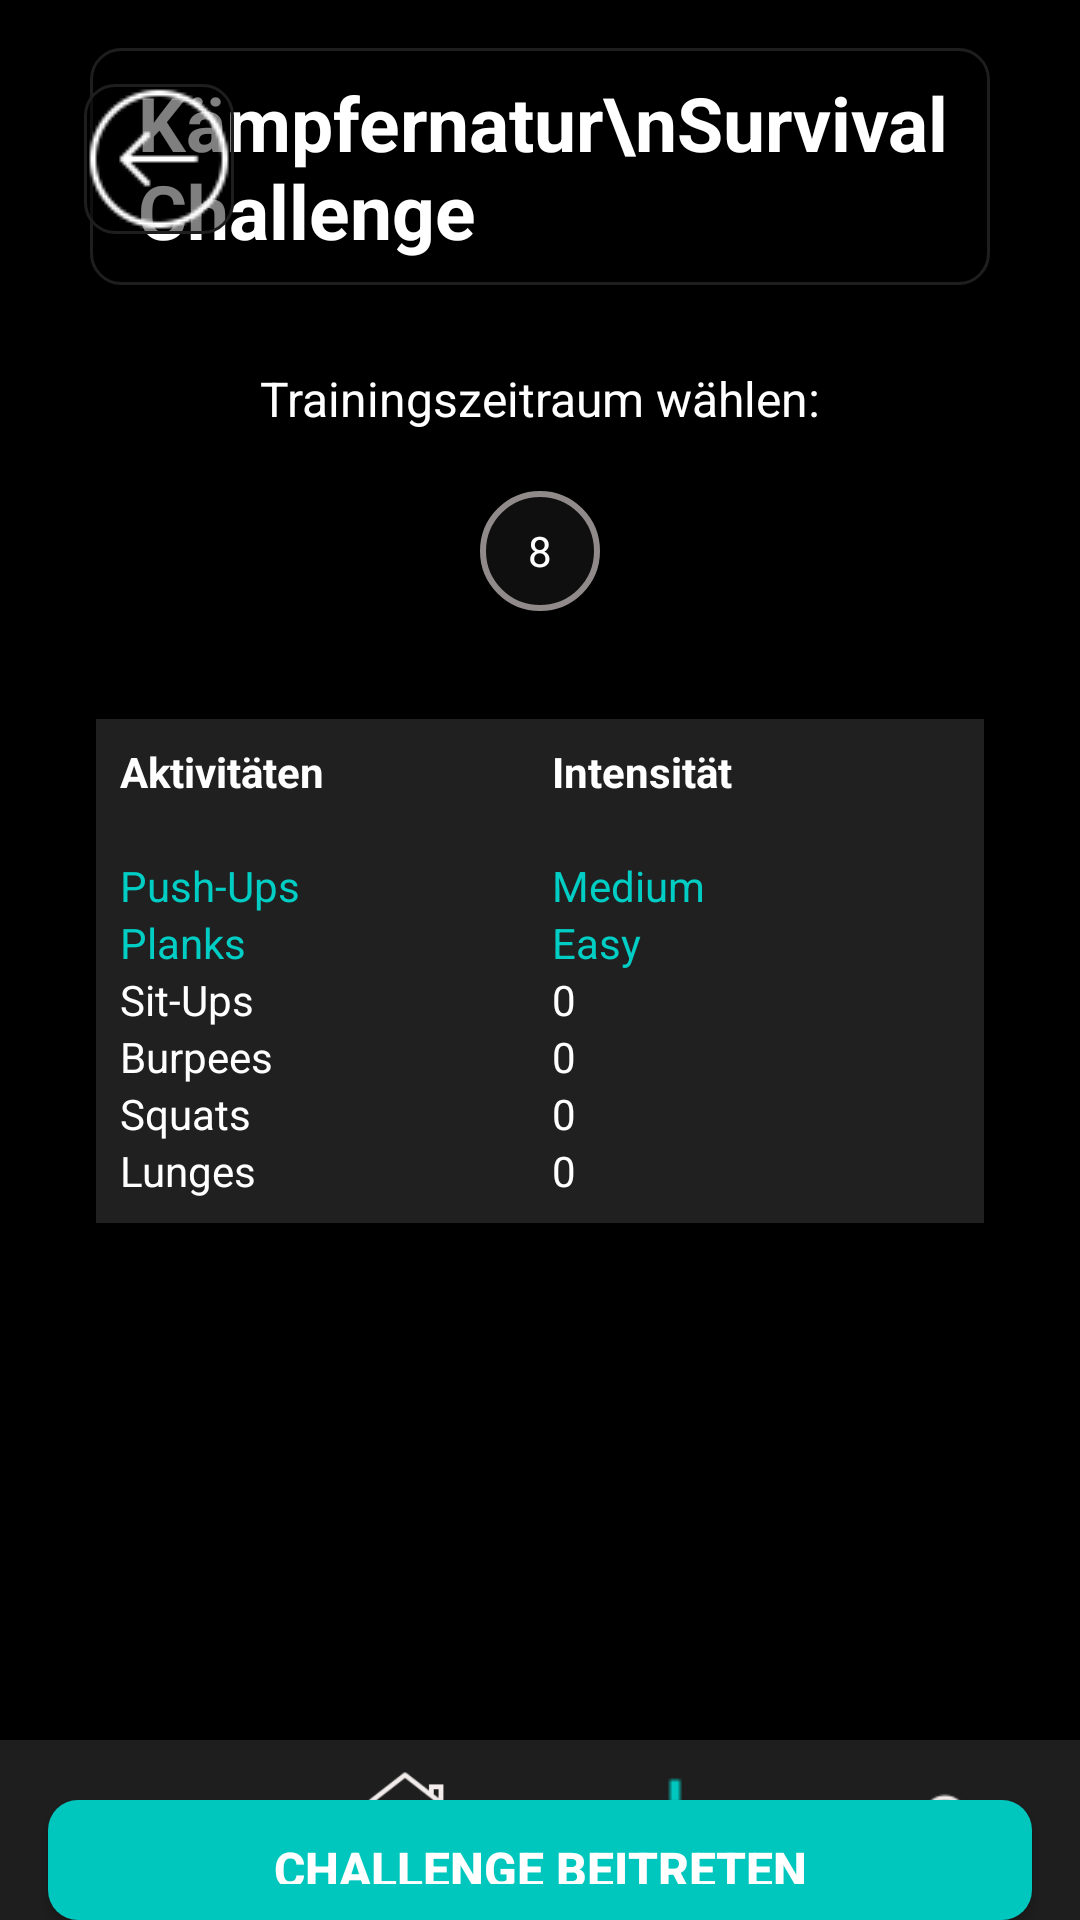

Named icons in this screenshot (1080 × 1920) and their bounding boxes, (x1, y1, x2, y2):
Zurück: (84, 84, 234, 234)
